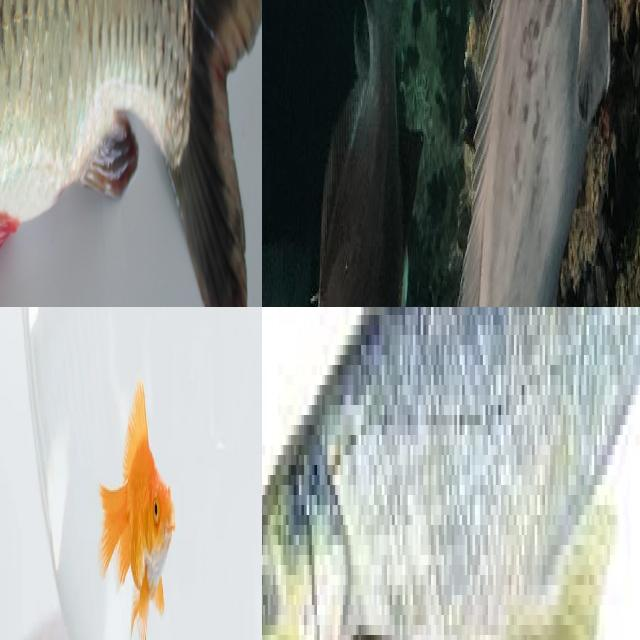fish: (299, 307, 640, 640), (0, 0, 262, 307), (286, 0, 410, 307)
